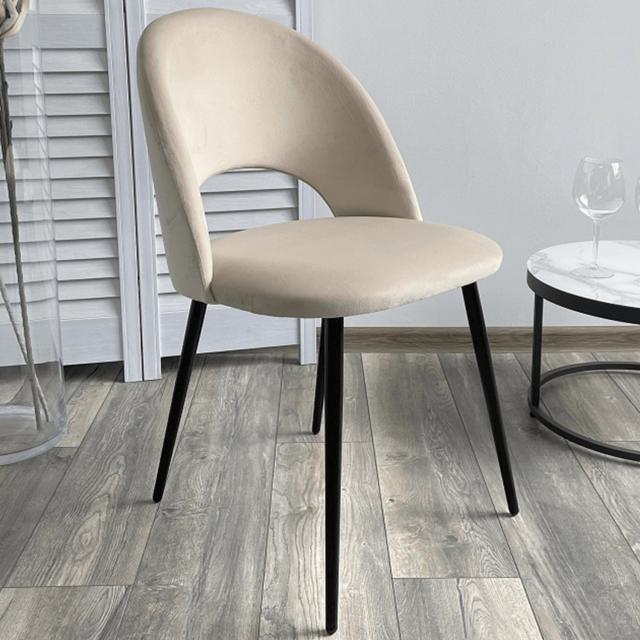chair: (130, 3, 526, 635), (126, 0, 515, 325)
